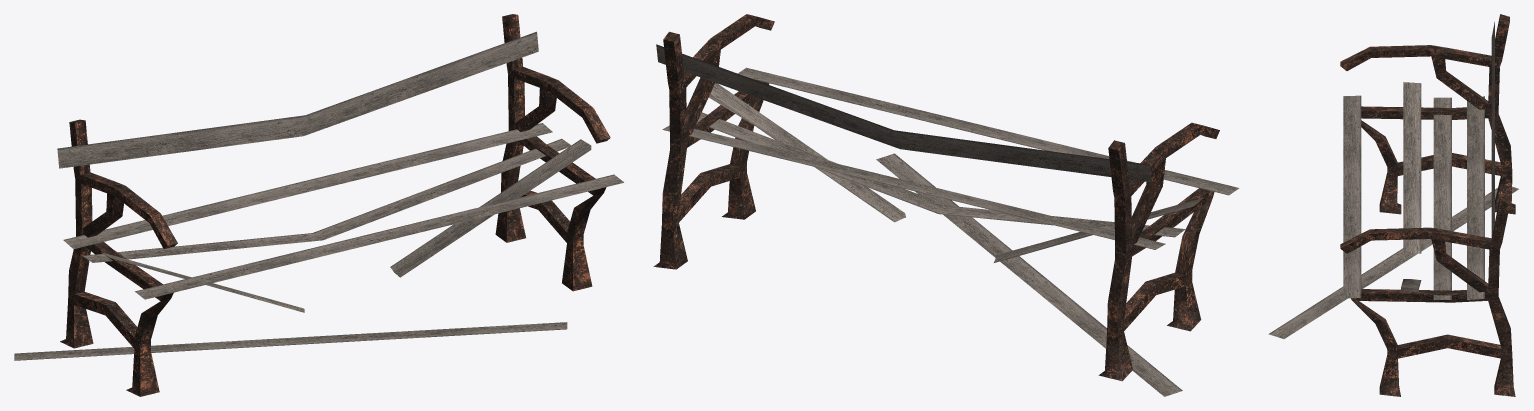
Rendered from bench_LOD1.fbx.
The picture shows the model from 3 angles, left to right: view 1: azimuth 30°, elevation 25°; view 2: azimuth 150°, elevation 25°; view 3: azimuth 270°, elevation 25°; orthographic projection. The views are drawn at different scales.
Visible parts, largest first — view 1: bench_LOD1; view 2: bench_LOD1; view 3: bench_LOD1.
Part boxes in pixels (bbox=[...]): bench_LOD1: bbox=[14, 14, 623, 396]; bench_LOD1: bbox=[653, 14, 1239, 396]; bench_LOD1: bbox=[1268, 14, 1518, 396].
Bounding box in the file's own units: 1.98 × 0.8307 × 0.9655.
